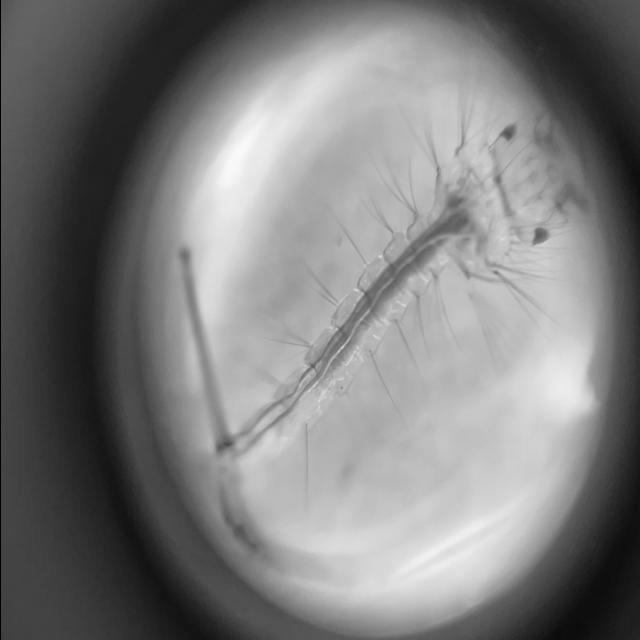larvas: (212, 105, 563, 468)
